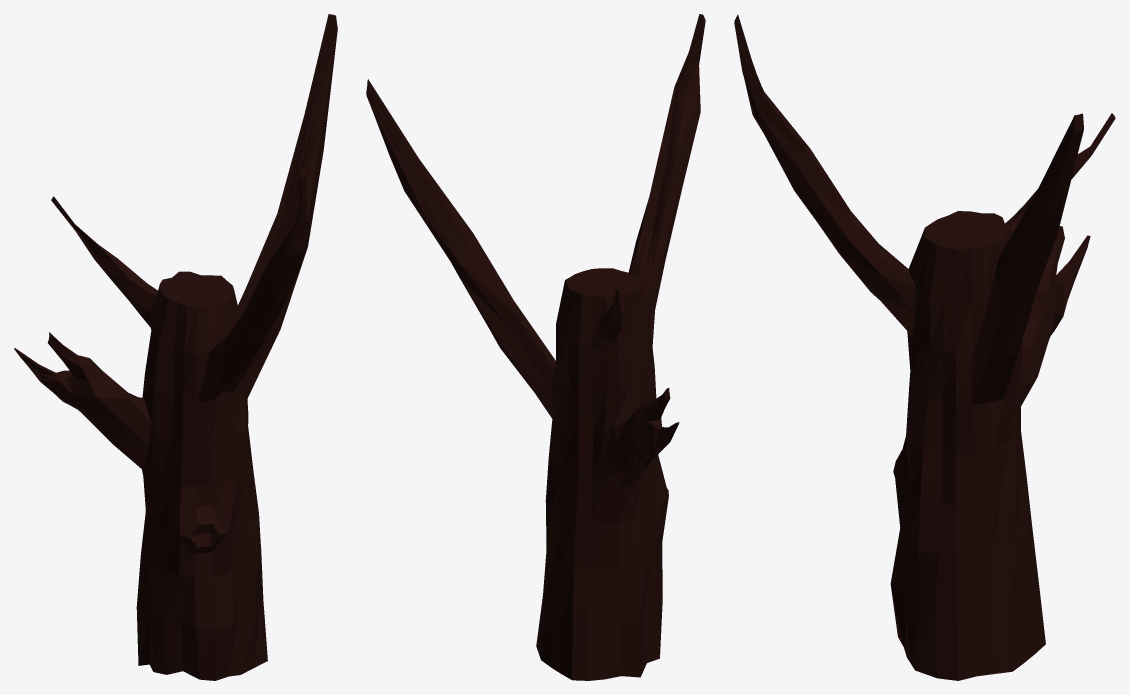
3 renders of one model, left to right at view 1: azimuth 30°, elevation 25°; view 2: azimuth 150°, elevation 25°; view 3: azimuth 270°, elevation 25°, orthographic. The views are drawn at different scales.
Visible parts, largest first — view 1: Big Tree; view 2: Big Tree; view 3: Big Tree.
Boxes of the visible parts, <box> form: Big Tree: <box>14,14,337,680</box>; Big Tree: <box>366,14,705,680</box>; Big Tree: <box>734,14,1115,680</box>.
Bounding box in the file's own units: 10.08 × 9.28 × 17.15.
